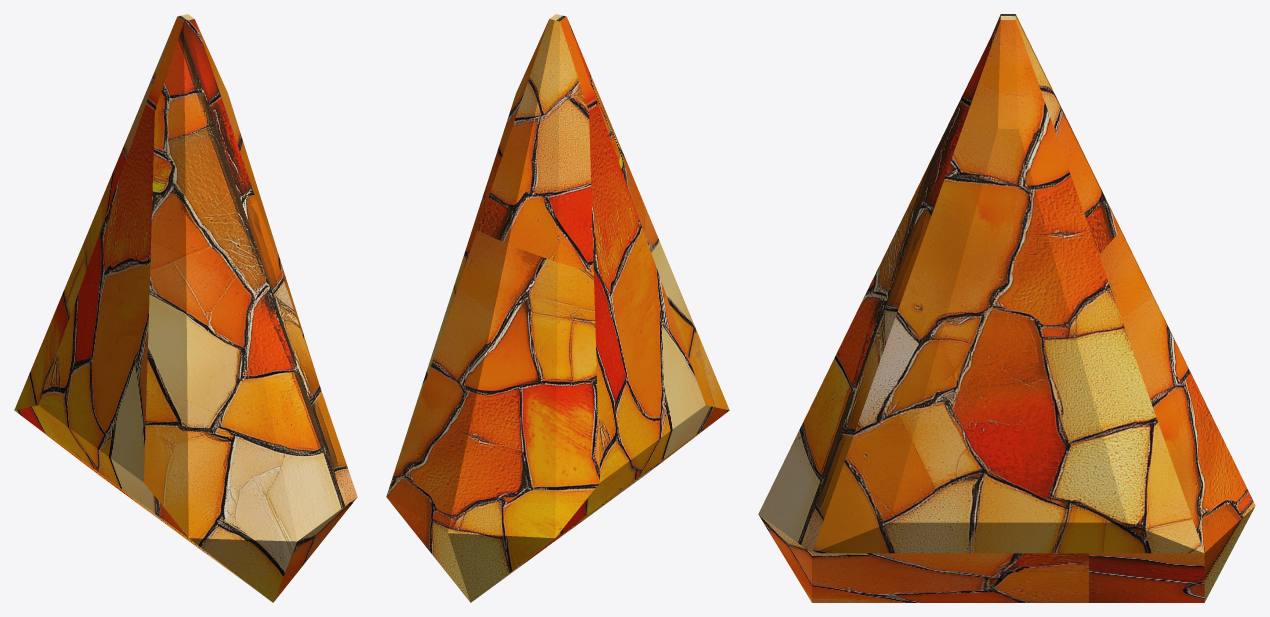
File: gemstone4Orange.glb
3 renders of one model, left to right at view 1: azimuth 30°, elevation 25°; view 2: azimuth 150°, elevation 25°; view 3: azimuth 270°, elevation 25°, orthographic. The views are drawn at different scales.
Visible parts, largest first — view 1: gemstone3; view 2: gemstone3; view 3: gemstone3.
Part boxes in pixels (bbox=[...]): gemstone3: bbox=[14, 14, 357, 602]; gemstone3: bbox=[386, 14, 729, 602]; gemstone3: bbox=[758, 14, 1255, 602].
Size of the model in its own units: 0.5 by 1.3 by 1.
Materials: 1 (1 with a texture image).
